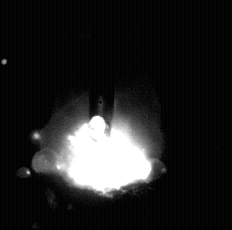arame: (90, 0, 114, 136)
poca: (40, 0, 165, 230)
